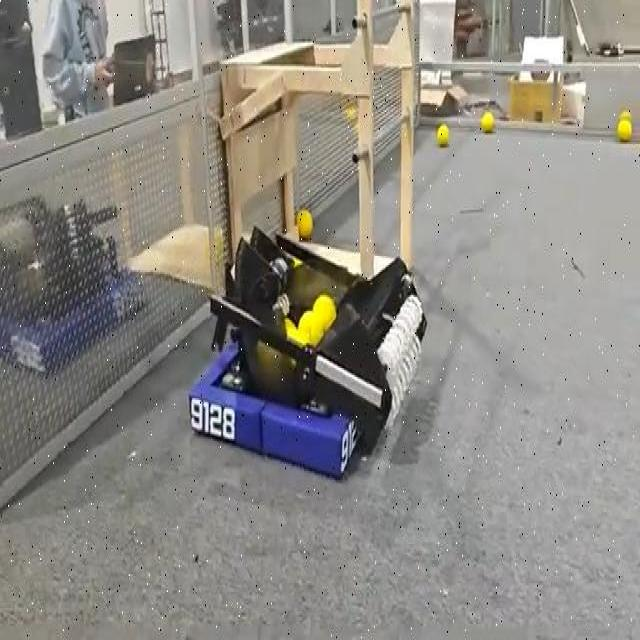Fuel: (312, 294, 337, 330), (298, 310, 322, 347), (313, 293, 336, 331), (298, 311, 323, 345), (285, 320, 307, 350), (296, 209, 313, 240), (296, 210, 313, 238), (617, 118, 632, 142), (343, 104, 358, 128), (617, 119, 632, 141), (480, 112, 495, 133), (436, 124, 449, 148), (436, 123, 449, 146), (481, 112, 495, 133), (620, 108, 632, 125)
